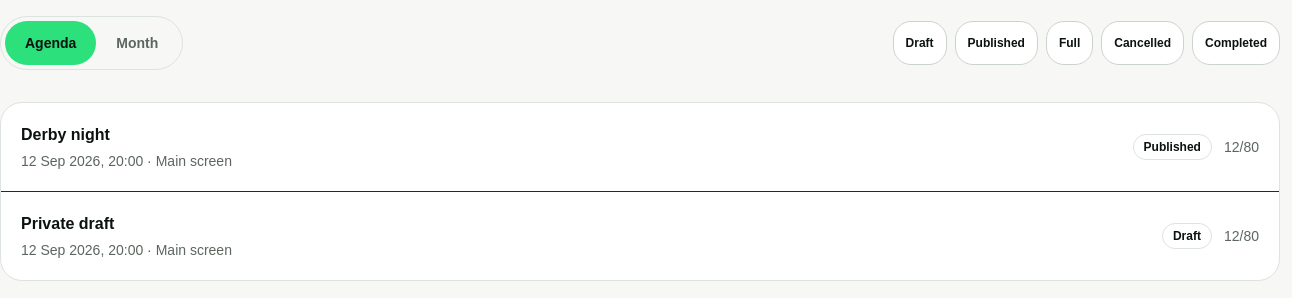
Test: VenueCalendar › filters Draft, Published, Full, Cancelled, and Completed on the same surface
The width and height of the screenshot is (1292, 298).
Click the button "Draft": point(920, 43) [893,21,947,65]
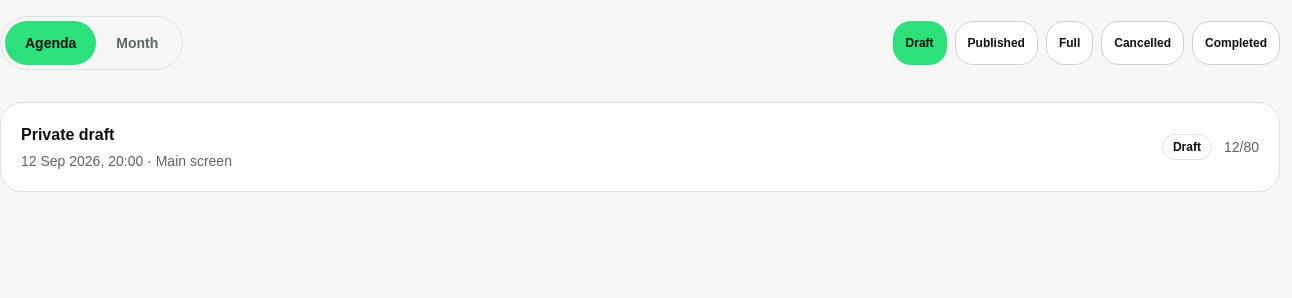
Expected: the link "Private draft 12 Sep 2026, 20:00 · Main screen Draft 12/80" is shown, [21,126,1259,169]
Result: the link "Derby night" is gone
